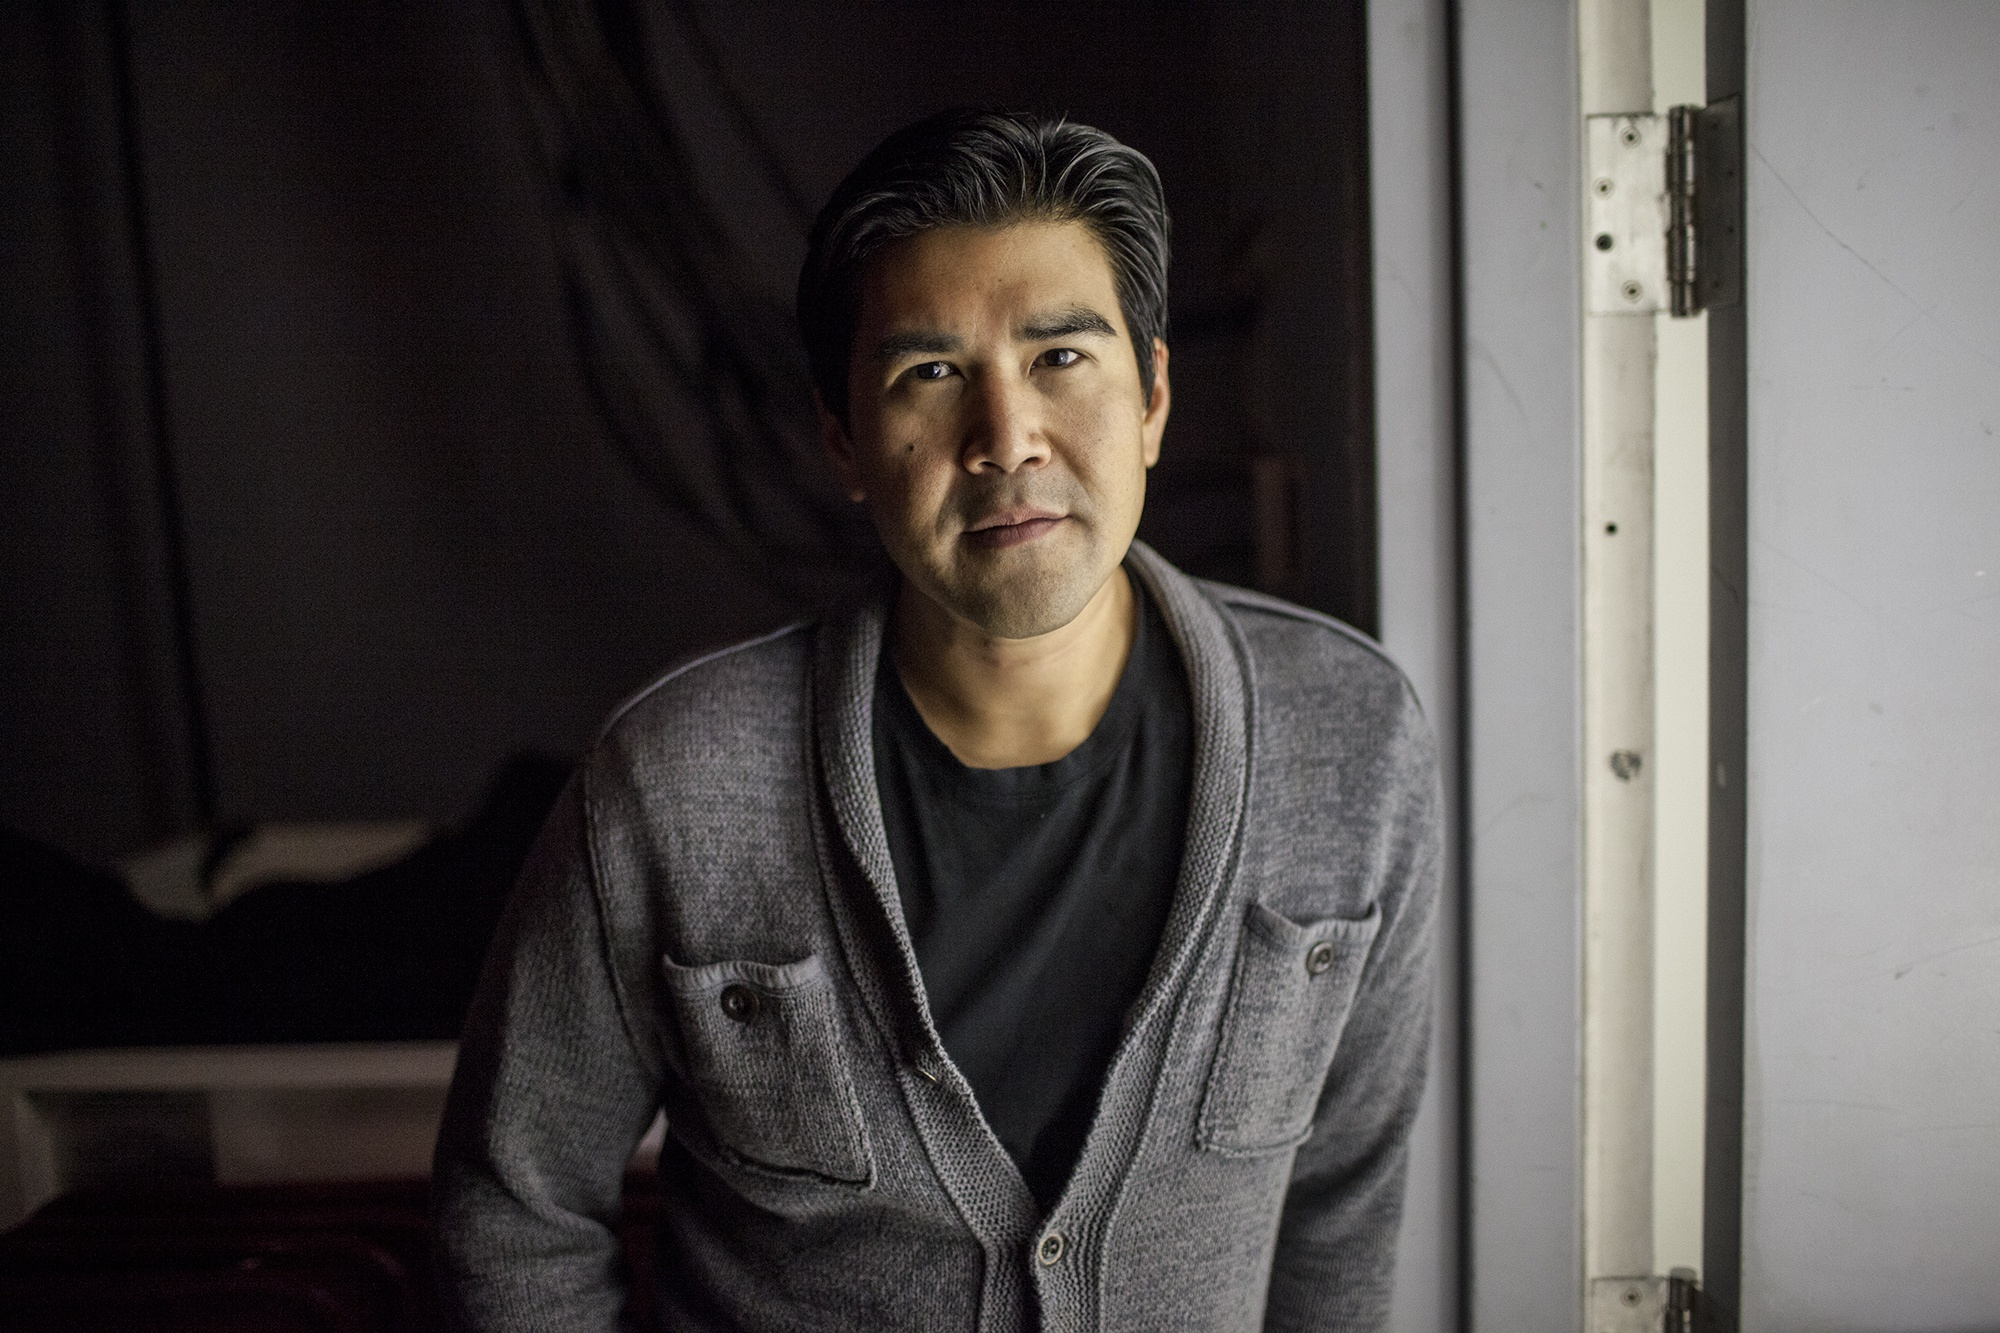bad: (848, 277, 1167, 598)
